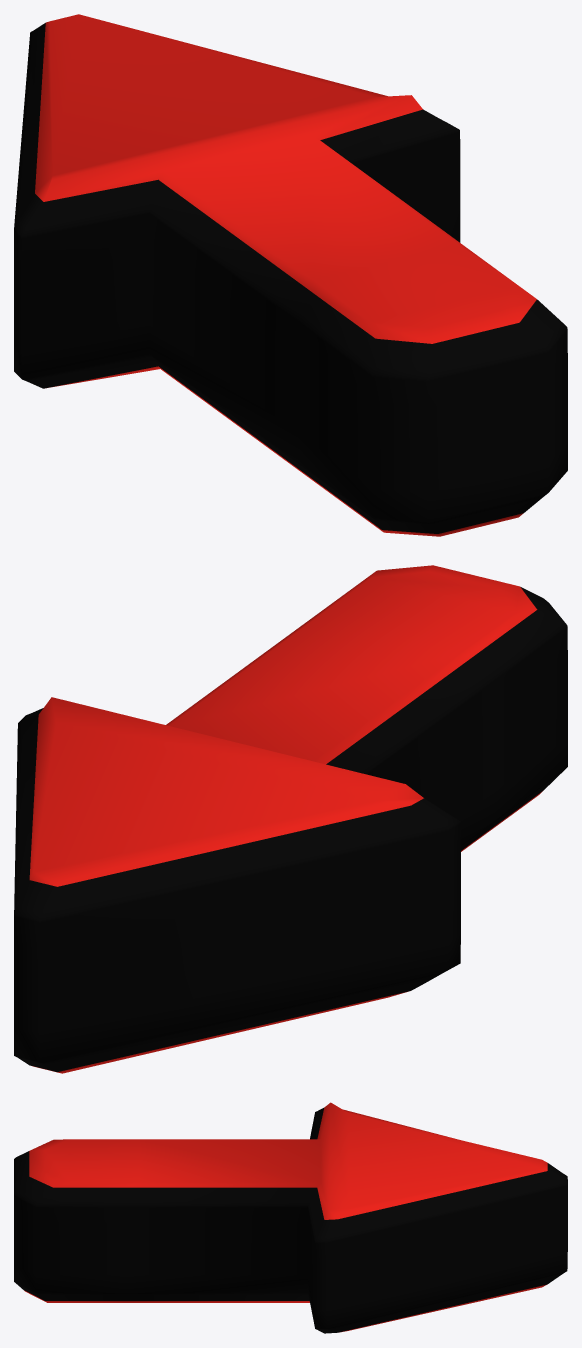
File: Flecha.glb
3 renders of one model, top to bottom at view 1: azimuth 30°, elevation 25°; view 2: azimuth 150°, elevation 25°; view 3: azimuth 270°, elevation 25°, orthographic. The views are drawn at different scales.
Visible parts, largest first — view 1: Cube; view 2: Cube; view 3: Cube.
Part boxes in pixels (<box>): Cube: <box>14,14,567,536</box>; Cube: <box>14,565,567,1073</box>; Cube: <box>14,1102,567,1333</box>.
Size of the model in its own units: 2.32 by 1.05 by 4.19.
